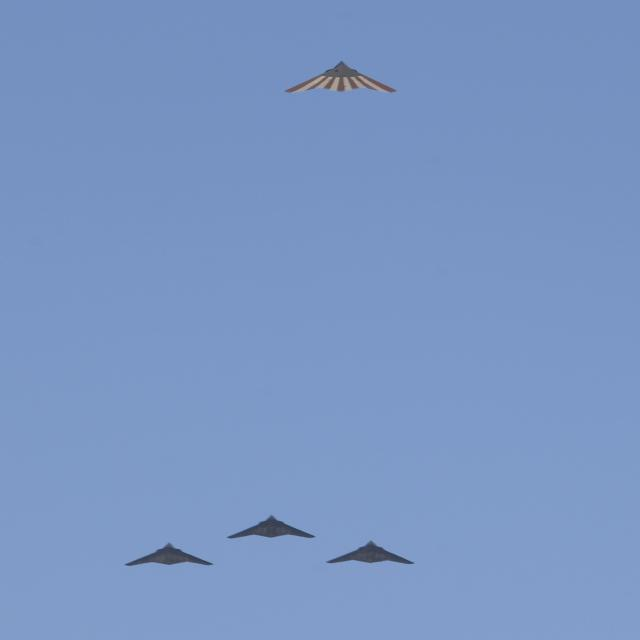MIL_Plane: (284, 61, 397, 94), (124, 542, 214, 567), (325, 540, 415, 564), (226, 515, 315, 539)
